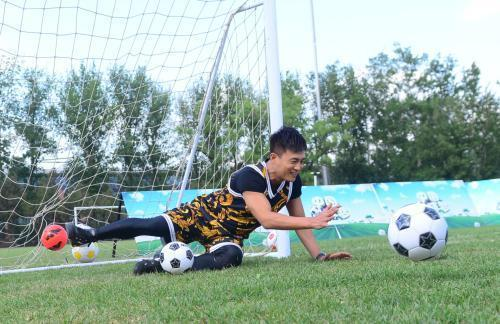Fall-Detected: (41, 115, 355, 278)
